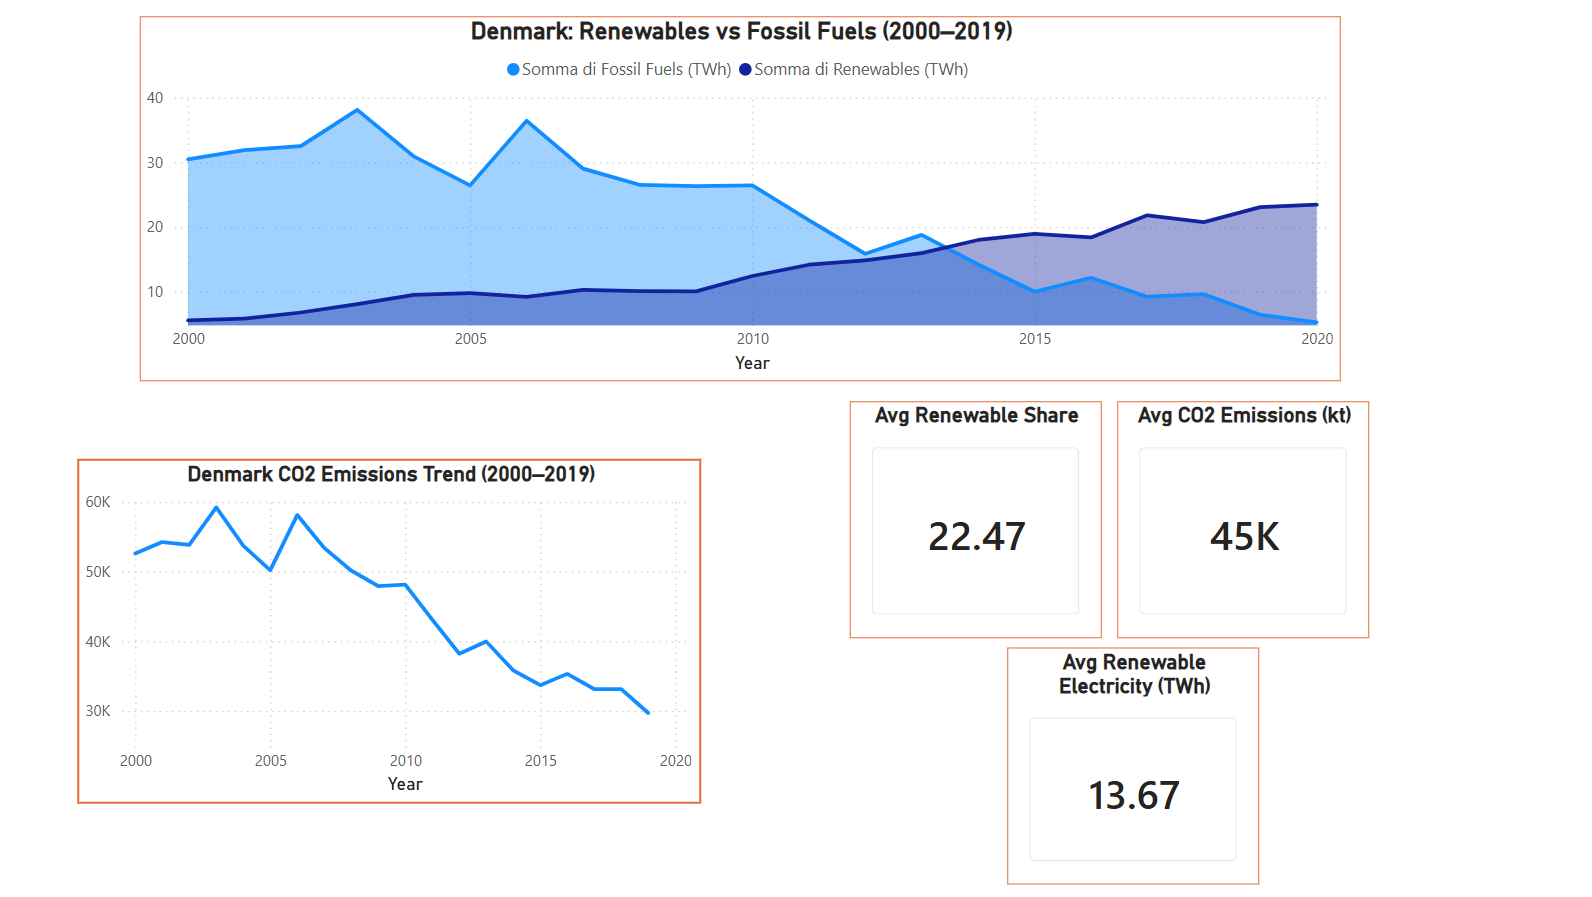

Layout of this report page (visuals, bound fields, positions):
{"tool":"powerbi","page":{"name":"Denmark Focus","canvas":[1280,720],"ordinal":1},"visuals":[{"type":"areaChart","title":"Denmark: Renewables vs Fossil Fuels (2000–2019)","fields":{"Category":["sustainable_energy.Year"],"Y":["Sum(sustainable_energy.Electricity_from_fossil_fuels_TWh)","Sum(sustainable_energy.Electricity_from_renewables_TWh)"]},"box":[114.5,12.7,961.8,291.8],"z":0},{"type":"lineChart","title":"Denmark CO2 Emissions Trend (2000–2019)","fields":{"Category":["sustainable_energy.Year"],"Y":["Sum(sustainable_energy.Value_co2_emissions_kt_by_country)"]},"box":[65.5,367.3,498.2,275.5],"z":1000},{"type":"cardVisual","title":"Avg Renewable Share","fields":{"Data":["Avg(sustainable_energy.Renewable_energy_share_in_the_total_final_energy_consumption)"]},"box":[683.3,320.7,201.8,190],"z":2000},{"type":"cardVisual","title":"Avg CO2 Emissions (kt)","fields":{"Data":["Avg(sustainable_energy.Value_co2_emissions_kt_by_country)"]},"box":[896.9,320.7,201.8,190],"z":3000},{"type":"cardVisual","title":"Avg Renewable Electricity (TWh)","fields":{"Data":["Avg(sustainable_energy.Electricity_from_renewables_TWh)"]},"box":[808.7,518,201.8,190],"z":4000}]}

Visuals, with their boxes in screenshot pixels (x1, y1, x2, y2), scaled from the page's 1280x720 canvas onto the 1592x897 screenshot:
"Denmark: Renewables vs Fossil Fuels (2000–2019)" areaChart: (142,16,1339,379)
"Denmark CO2 Emissions Trend (2000–2019)" lineChart: (81,458,701,801)
"Avg Renewable Share" cardVisual: (850,400,1101,636)
"Avg CO2 Emissions (kt)" cardVisual: (1116,400,1367,636)
"Avg Renewable Electricity (TWh)" cardVisual: (1006,645,1257,882)
